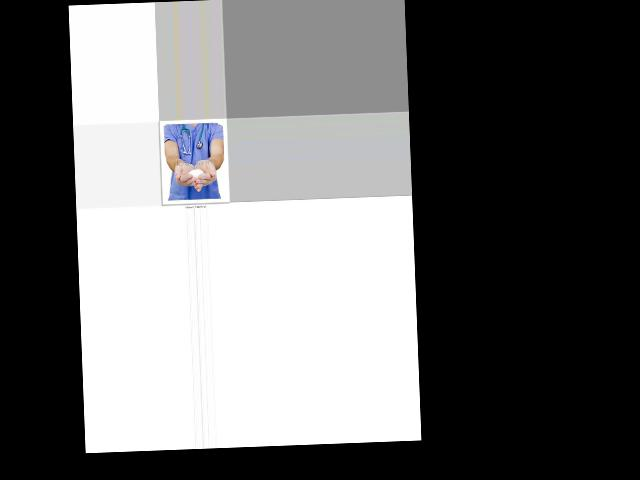egg: (187, 168, 203, 179)
